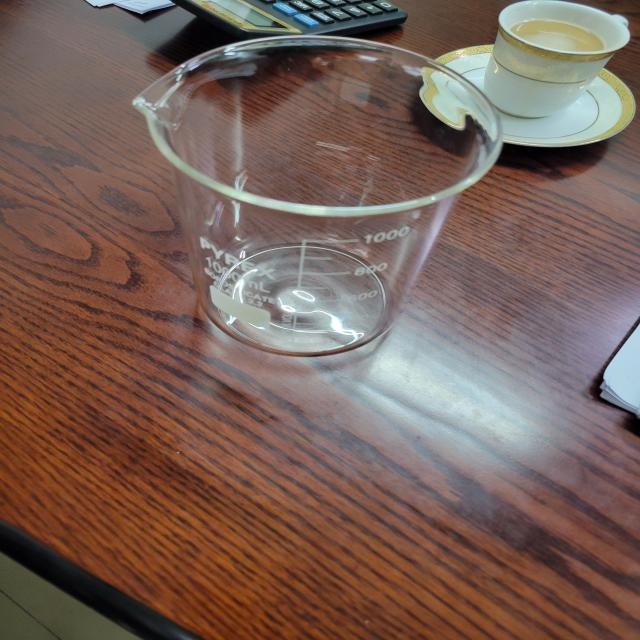Beaker: (124, 24, 510, 367)
